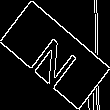N_NE: (26, 22, 84, 88)
